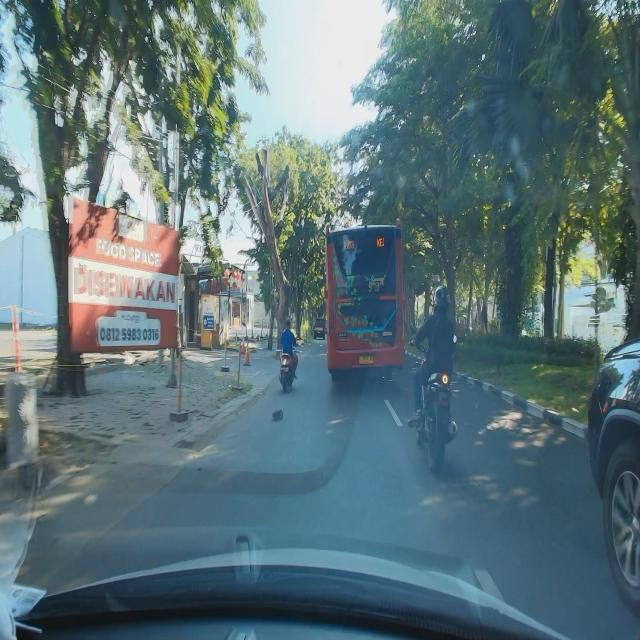bus: (322, 217, 406, 388)
license-plate: (359, 355, 374, 365)
